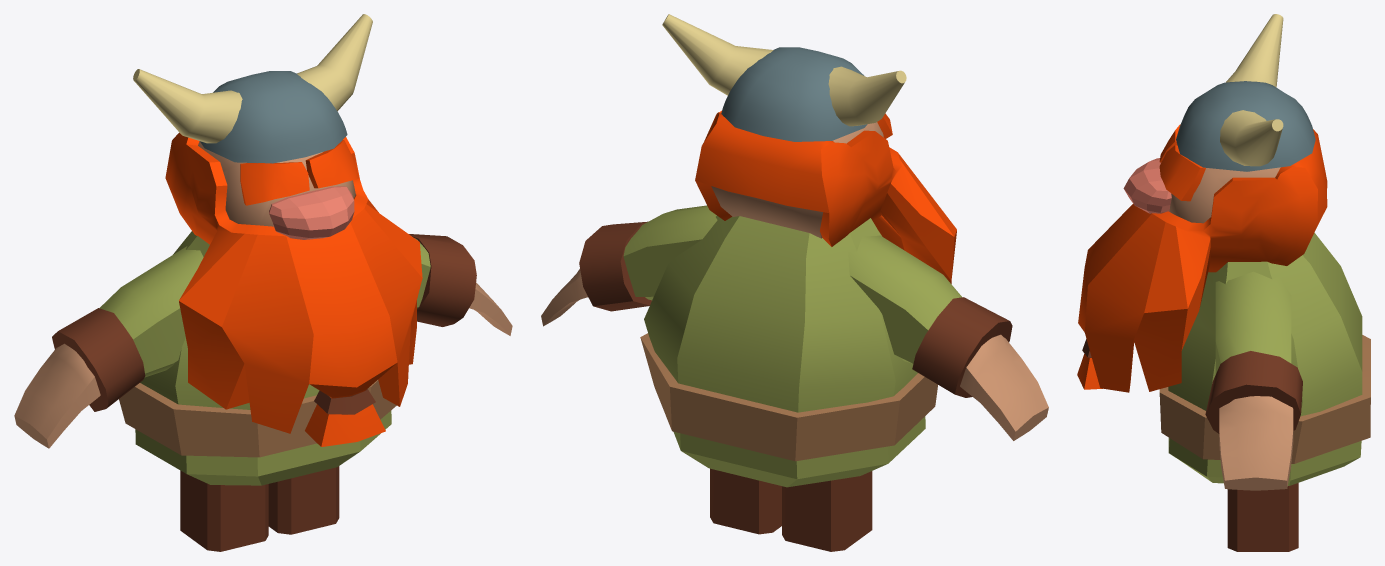
The model's file is viking_01.fbx.
3 renders of one model, left to right at view 1: azimuth 30°, elevation 25°; view 2: azimuth 150°, elevation 25°; view 3: azimuth 270°, elevation 25°, orthographic. The views are drawn at different scales.
Visible parts, largest first — view 1: viking_01; view 2: viking_01; view 3: viking_01.
Part boxes in pixels (bbox=[...]): viking_01: bbox=[14, 14, 512, 551]; viking_01: bbox=[541, 14, 1048, 551]; viking_01: bbox=[1077, 14, 1370, 551].
Size of the model in its own units: 271 by 265 by 155.
